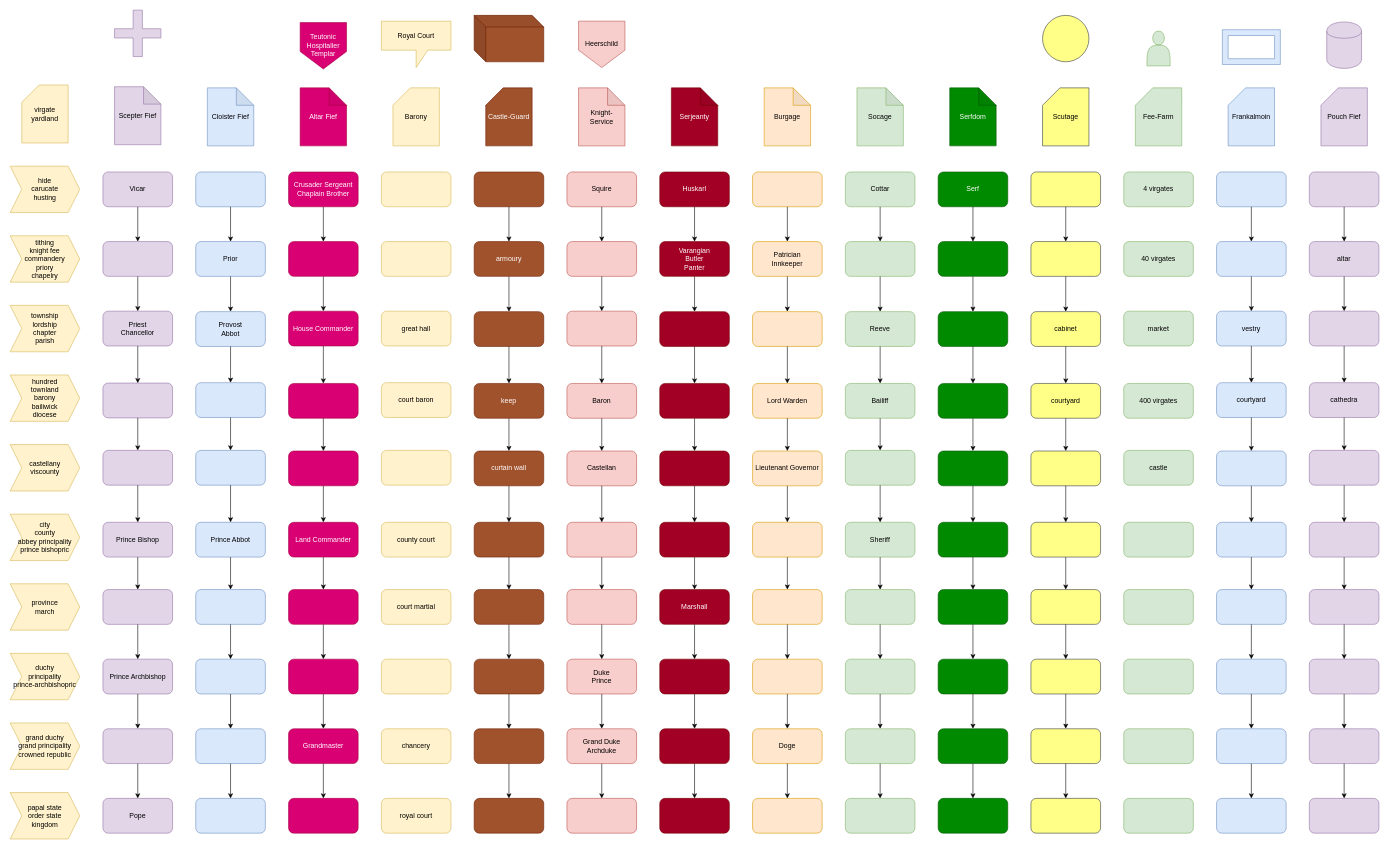
This 1389x849 diagram has some shape labels left out. Here are the shapes that lost their labels. From the top down, the centre of each, then its label:
(137,33): catholic
(509,38): Nordic Manor
(1065,38): Florin
(230,189): Monk Friar
(787,189): Burgher
(137,258): Chaplain
(323,258): Crusader Knight Treasurer Draper
(601,258): Knight
(880,258): Hufner Falconer Gamekeeper
(1065,258): guest hall workshop parlour
(1251,258): cloister
(601,328): Lord
(694,328): Constable Chamberlain
(787,328): Lord Mayor
(1344,328): font
(137,400): Bishop Archbishop Cardinal
(230,399): Prince Provost
(323,468): Knight Commander
(509,539): outer wall
(601,539): Jarl
(787,539): Governor General
(601,606): Marques
(323,676): Master Commander
(601,815): King
